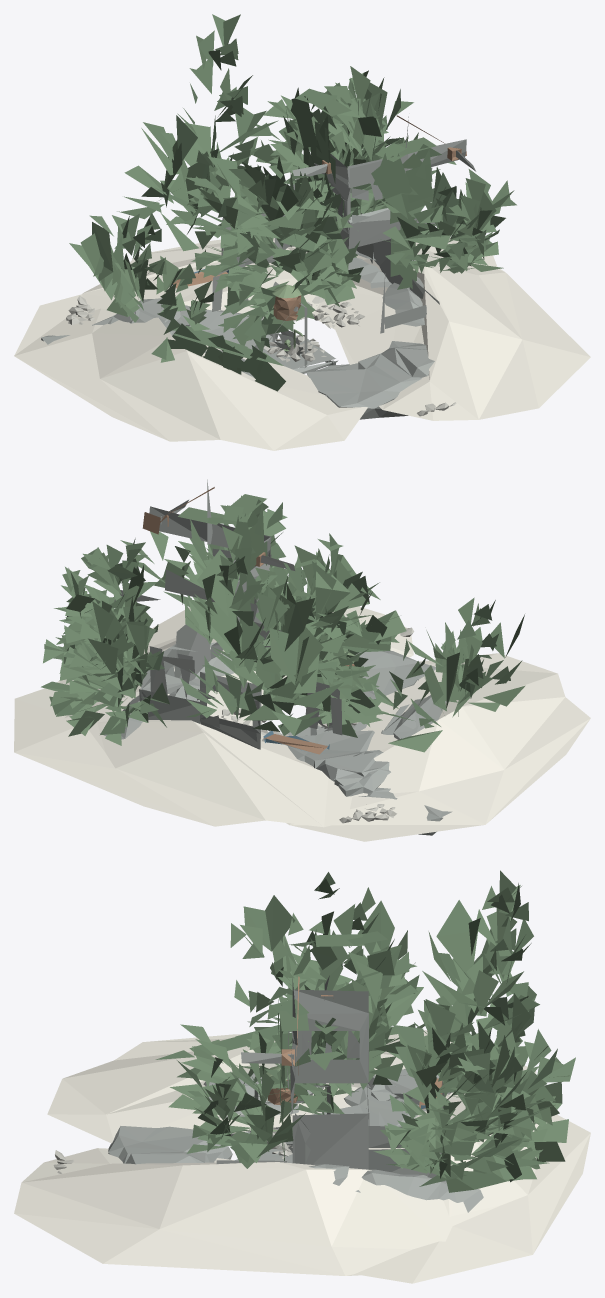
Rendered from water_well_a.glb.
The picture shows the model from 3 angles, top to bottom: view 1: azimuth 30°, elevation 25°; view 2: azimuth 150°, elevation 25°; view 3: azimuth 270°, elevation 25°; orthographic projection. The views are drawn at different scales.
Visible parts, largest first — view 1: creeping_plant_fall_a_temperate, dunes_optimized (1), floor_a_LOD0, ground_cloth_a_LOD0, small_planter_soil; view 2: creeping_plant_fall_a_temperate, dunes_optimized (1), floor_a_LOD0, small_planter_soil, ground_cloth_a_LOD0; view 3: creeping_plant_fall_a_temperate, dunes_optimized (1), floor_a_LOD0, small_planter_soil.
Part boxes in pixels (x1,y1,x2,y2): creeping_plant_fall_a_temperate: [69, 14, 516, 391]; dunes_optimized (1): [14, 237, 590, 450]; floor_a_LOD0: [41, 116, 475, 419]; ground_cloth_a_LOD0: [66, 295, 456, 416]; small_planter_soil: [173, 115, 466, 320]; creeping_plant_fall_a_temperate: [41, 494, 525, 752]; dunes_optimized (1): [14, 606, 590, 841]; floor_a_LOD0: [100, 479, 452, 835]; small_planter_soil: [142, 487, 354, 754]; ground_cloth_a_LOD0: [221, 627, 414, 823]; creeping_plant_fall_a_temperate: [155, 870, 575, 1192]; dunes_optimized (1): [14, 1030, 590, 1283]; floor_a_LOD0: [108, 975, 483, 1212]; small_planter_soil: [267, 976, 442, 1109].
Size of the model in its own units: 23.86 by 15.85 by 22.74.
